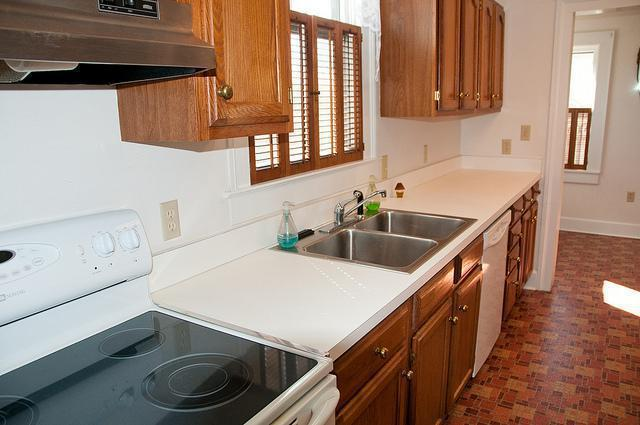Lavaplatos: (278, 187, 481, 283)
